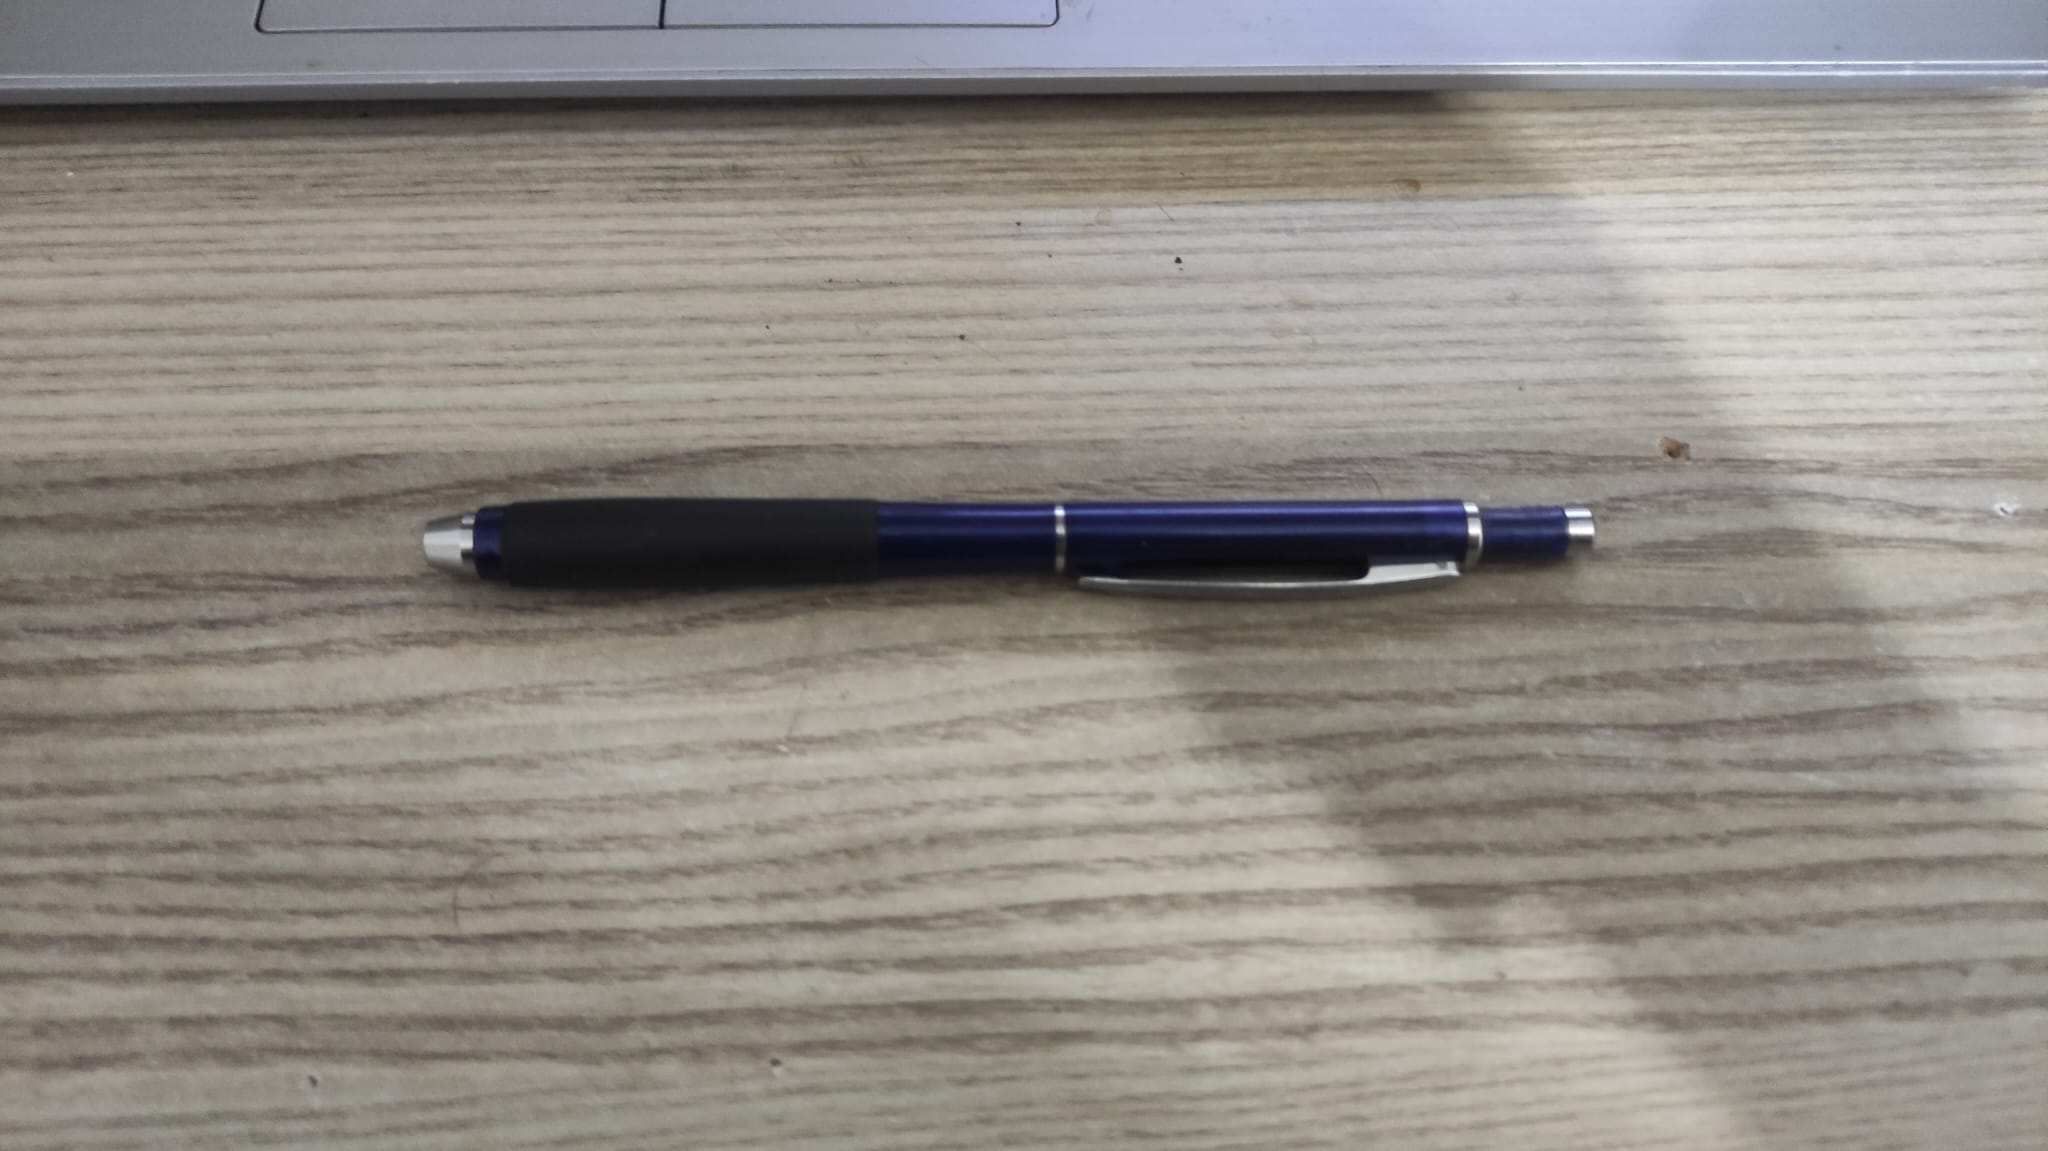kalem: (423, 494, 1612, 597)
